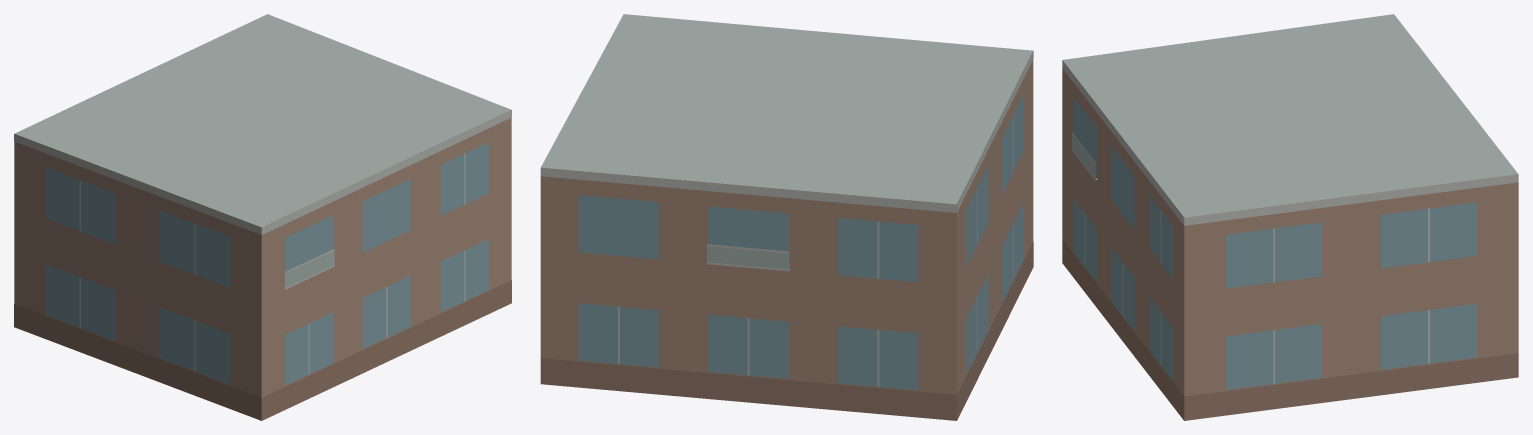
File: survey-upis-32619612.glb
3 views of the same model, side by side, from view 1: azimuth 30°, elevation 25°; view 2: azimuth 150°, elevation 25°; view 3: azimuth 270°, elevation 25° (orthographic). The views are drawn at different scales.
Parts seen in each view (by area): view 1: survey-upis-32619612.tmp; view 2: survey-upis-32619612.tmp; view 3: survey-upis-32619612.tmp.
Part boxes in pixels (x1,y1,x2,y2): survey-upis-32619612.tmp: (14,14,511,420); survey-upis-32619612.tmp: (540,14,1033,420); survey-upis-32619612.tmp: (1062,14,1518,420).
Size of the model in its own units: 13.13 by 6.1 by 12.43.
